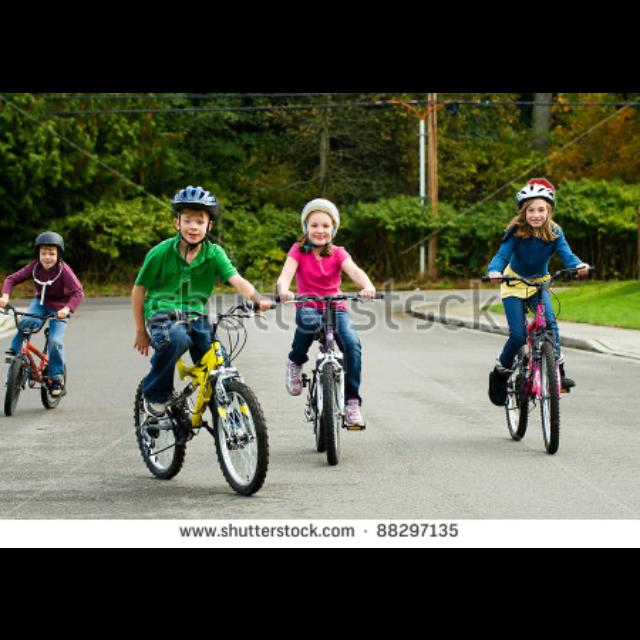With Helmet: (286, 185, 350, 252), (166, 179, 220, 243)
